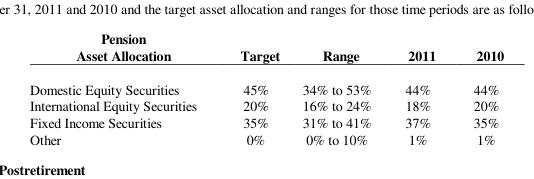table: (29, 28, 503, 147)
table column: (29, 28, 217, 147), (290, 28, 387, 147), (217, 28, 290, 147), (387, 28, 453, 147), (453, 28, 503, 147)
table column header: (29, 28, 503, 71)
table row: (29, 28, 503, 71), (29, 71, 503, 96), (29, 129, 503, 147), (29, 96, 503, 113), (29, 113, 503, 129)
